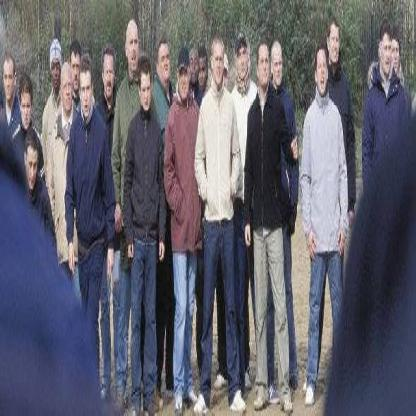face: (128, 30, 139, 72), (81, 76, 92, 117), (159, 44, 171, 80), (28, 150, 39, 189), (318, 54, 328, 94), (105, 58, 115, 97), (214, 45, 224, 84), (63, 71, 73, 110), (259, 47, 269, 84), (272, 48, 282, 85), (5, 60, 15, 97), (180, 63, 190, 99), (141, 75, 151, 109), (22, 94, 32, 128), (330, 27, 339, 64), (382, 37, 391, 74), (238, 42, 247, 77), (72, 54, 81, 89), (52, 56, 61, 87), (392, 42, 400, 73), (191, 52, 199, 81), (199, 59, 207, 86)
